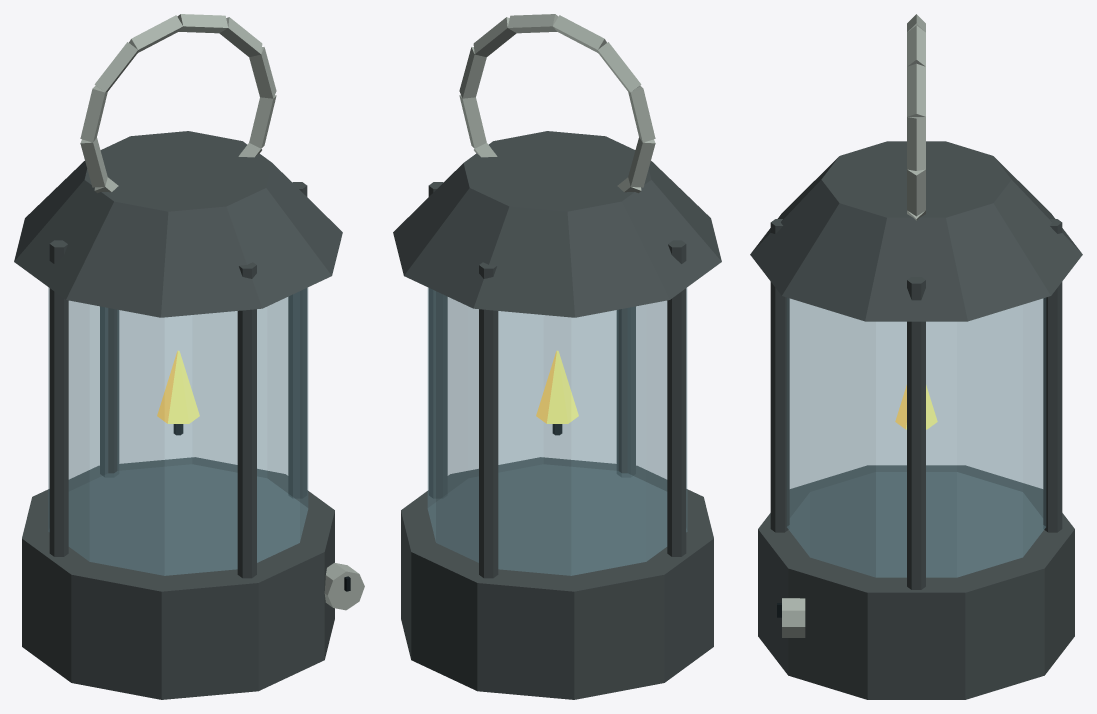
Rendered from blender_firelight_2_lit.glb.
3 views of the same model, side by side, from view 1: azimuth 30°, elevation 25°; view 2: azimuth 150°, elevation 25°; view 3: azimuth 270°, elevation 25° (orthographic).
Parts seen in each view (by area): view 1: blender_firelight_2_lit; view 2: blender_firelight_2_lit; view 3: blender_firelight_2_lit.
Part boxes in pixels (x1,y1,x2,y2): blender_firelight_2_lit: (14, 14, 364, 699); blender_firelight_2_lit: (393, 14, 721, 699); blender_firelight_2_lit: (750, 14, 1082, 699).
Size of the model in its own units: 0.1338 by 0.2854 by 0.1407.
Materials: 3 (3 with a texture image).
